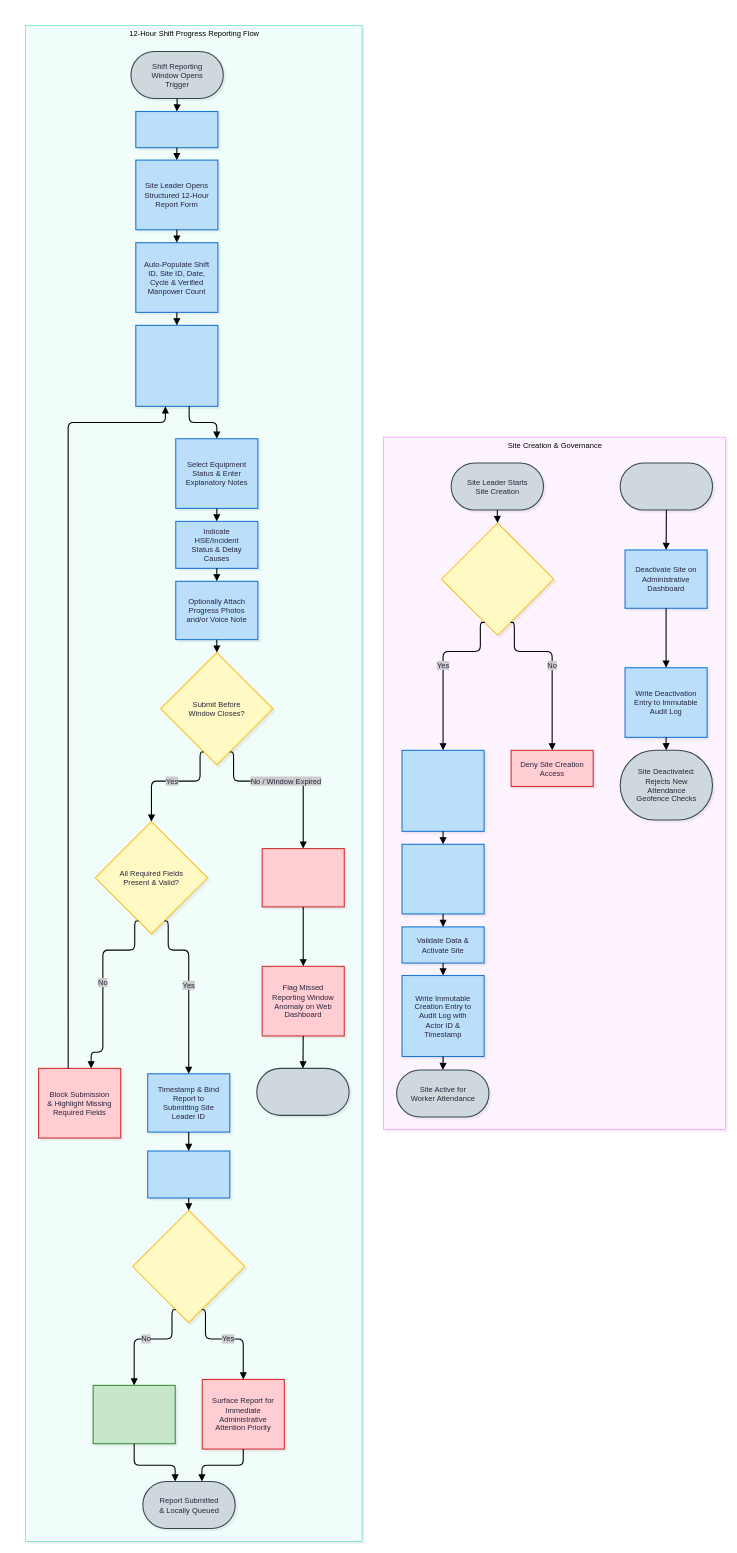
Image size: 737x1553. Some labels were removed from this diagram. The centre of each missing label's shape, as x and y in pixels:
Has Authorized Site Leader Role?: the point at 498,580
HSE Incident or Equipment Failure Reported?: the point at 189,1267
Input Mandatory Fields: Work Completed Text & Numeric Depth/Progress Metric: the point at 177,367
Management Initiates Site Deactivation: the point at 667,487
Notify Assigned Site Leader: the point at 177,130
Queue Report for Standard Background Synchronization: the point at 135,1415
Reporting Window Closed - Missed: the point at 304,1093
Save Report to Local Device Queue: the point at 189,1175
Select Site Center Method: Device GPS Position OR Interactive Map Pin: the point at 444,792
Set Geofence Radius, Site Name & Assign Authorized Workers: the point at 444,879
System Escalates Missed Report Event to Management: the point at 304,878
